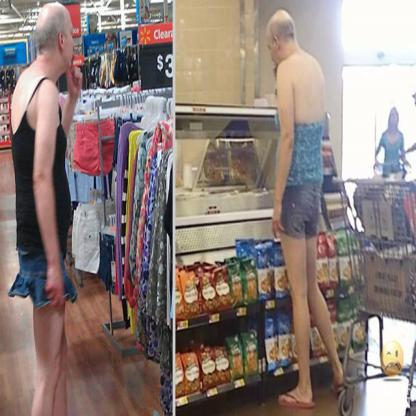face: (59, 13, 76, 68), (269, 29, 282, 70), (328, 235, 337, 253), (319, 237, 327, 254), (391, 112, 398, 127)
